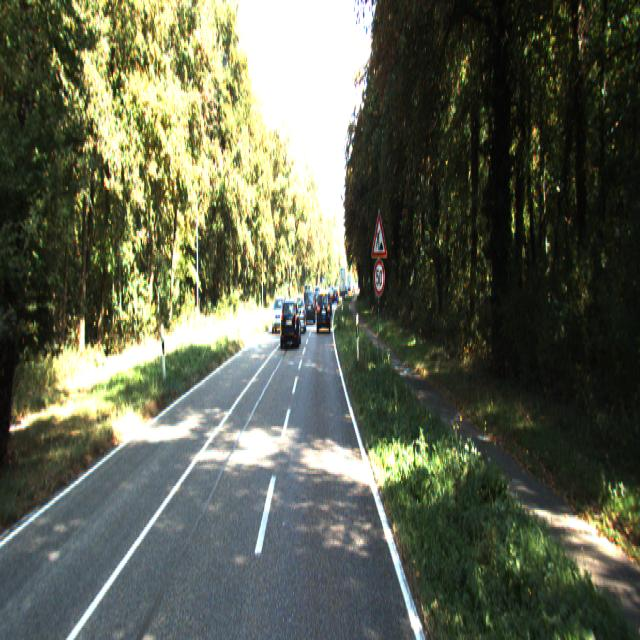Car: (280, 295, 301, 348), (316, 288, 331, 330), (271, 293, 286, 330), (304, 287, 315, 321)
